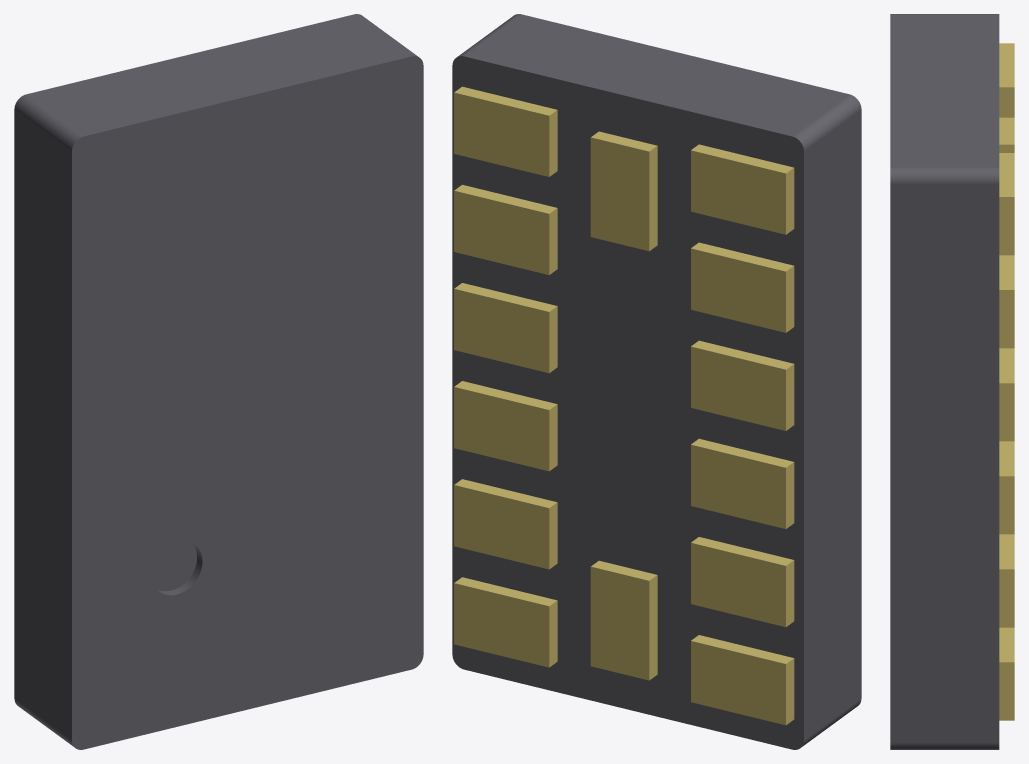
The model's file is adxl345.glb.
The picture shows the model from 3 angles, left to right: view 1: azimuth 30°, elevation 25°; view 2: azimuth 150°, elevation 25°; view 3: azimuth 270°, elevation 25°; orthographic projection. The views are drawn at different scales.
Parts seen in each view (by area): view 1: extra; view 2: extra, pins; view 3: extra, pins.
Part boxes in pixels (x1,y1,x2,y2): extra: (14,14,423,749); extra: (452,14,861,749); pins: (454,86,794,725); extra: (890,14,999,749); pins: (999,43,1014,720).
Bounding box in the file's own units: 3 × 5 × 0.97.
